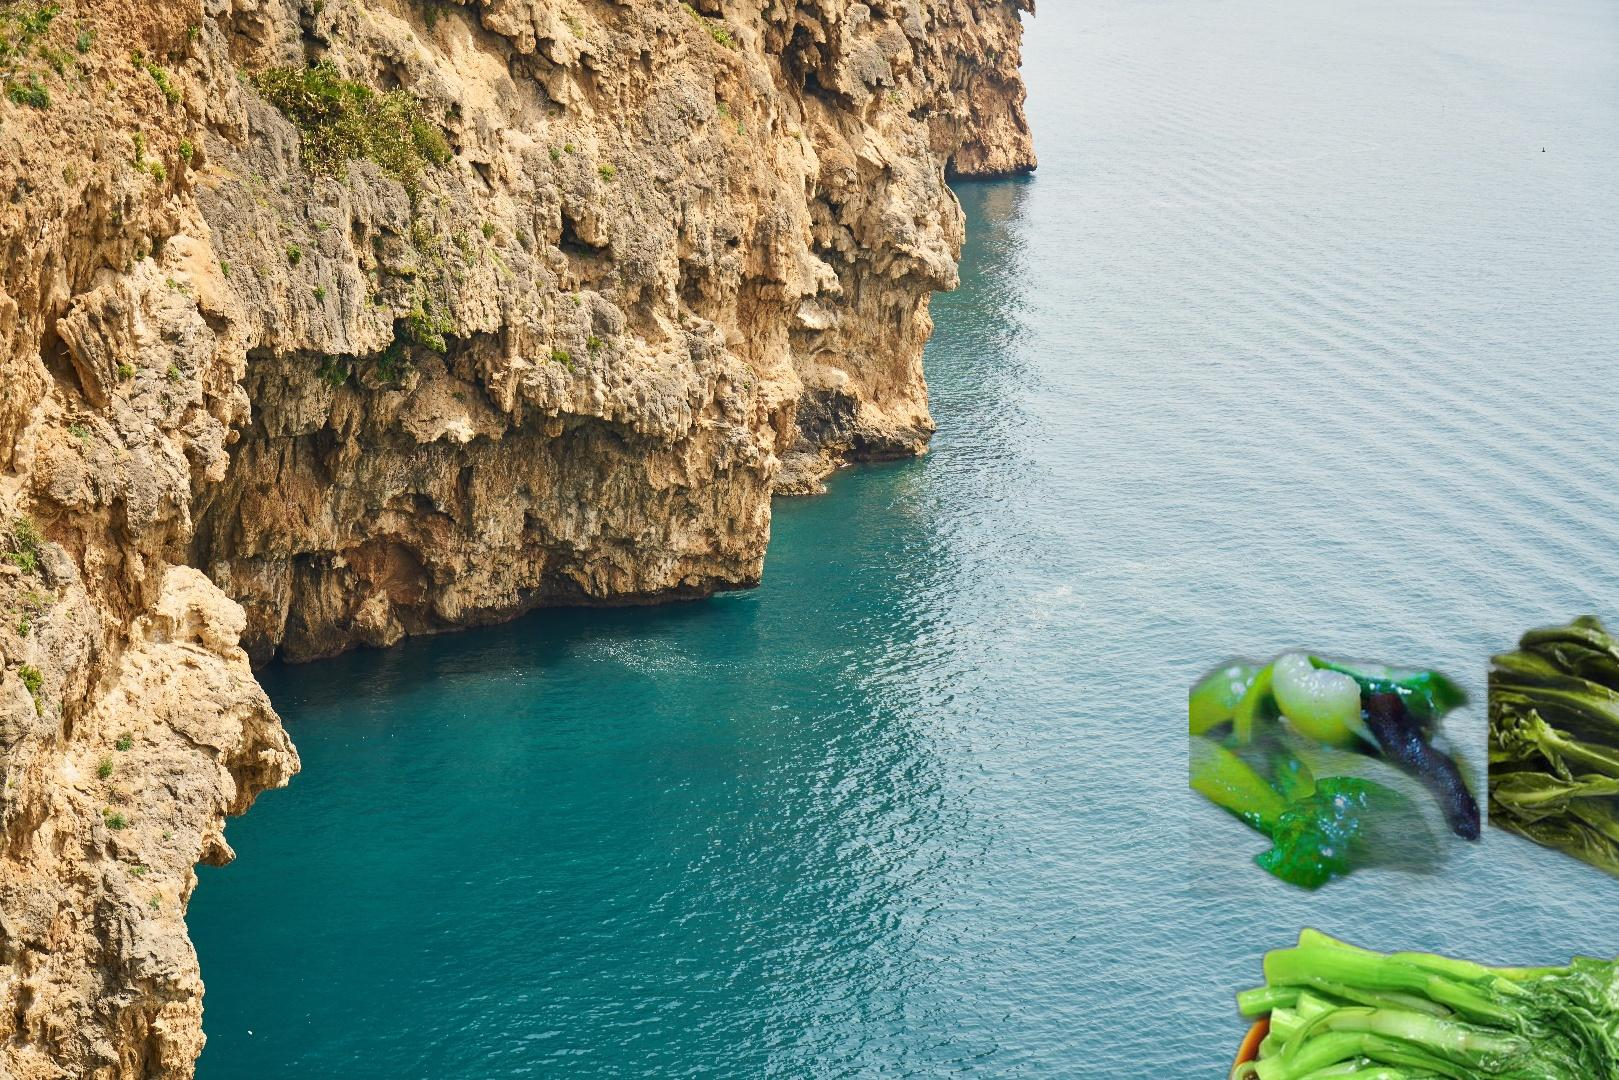biological: (1189, 615, 1619, 1080)
